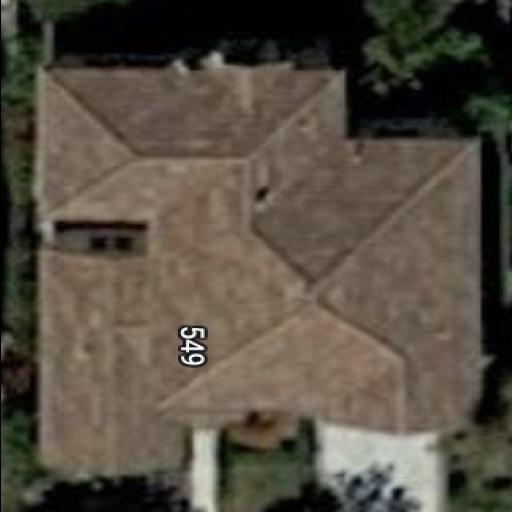Slope-Roof: (34, 62, 479, 483)
